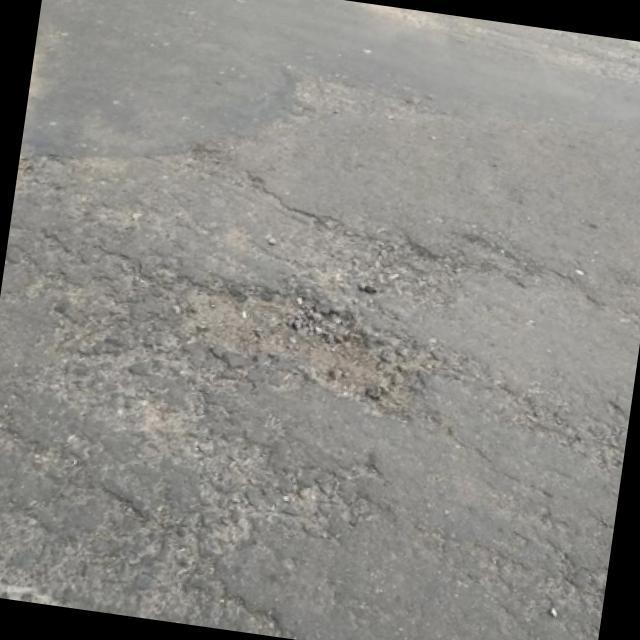Pothole: (55, 246, 438, 407)
